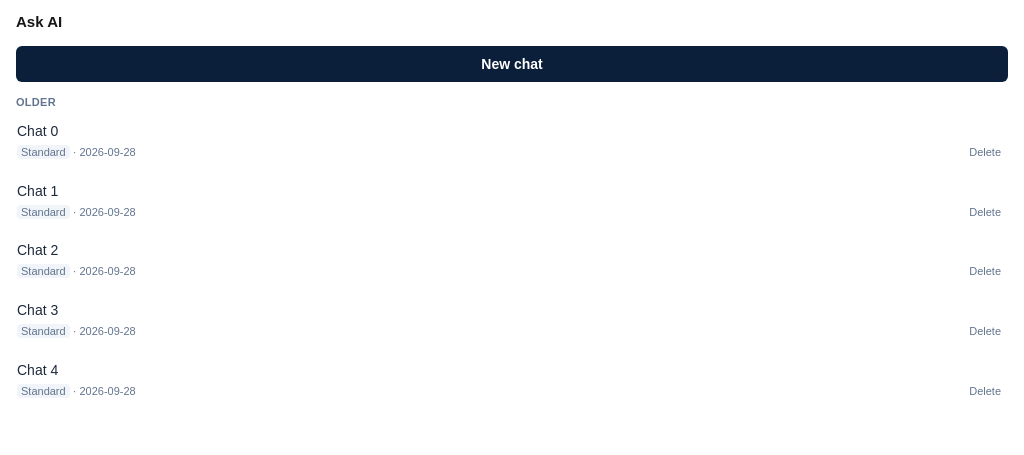
Test case: Rail › shows the busy message from the response body on a 409 (a turn is still settling under the lock)
The width and height of the screenshot is (1024, 455).
Click the button with aria-label "Delete Chat 0": click(985, 153) [963,143,1007,163]
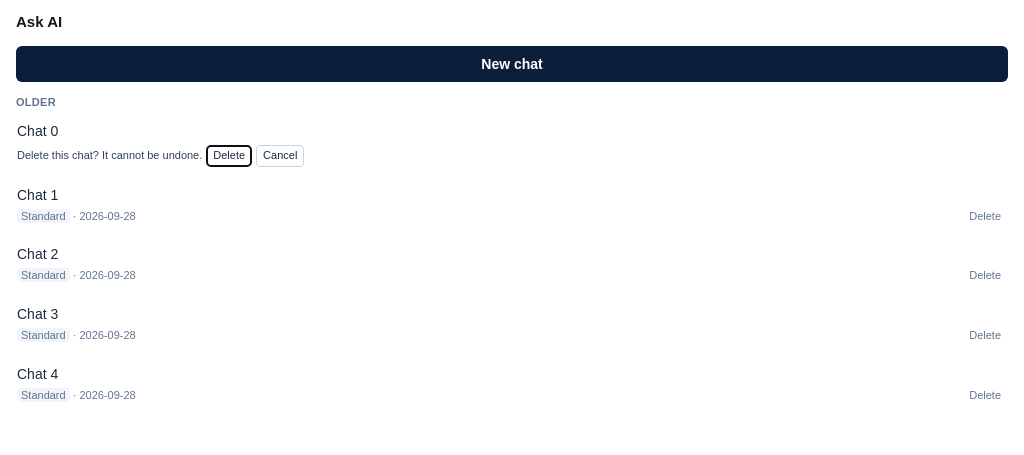
Click the button with aria-label "Confirm delete Chat 0": click(229, 156) [206,145,252,167]
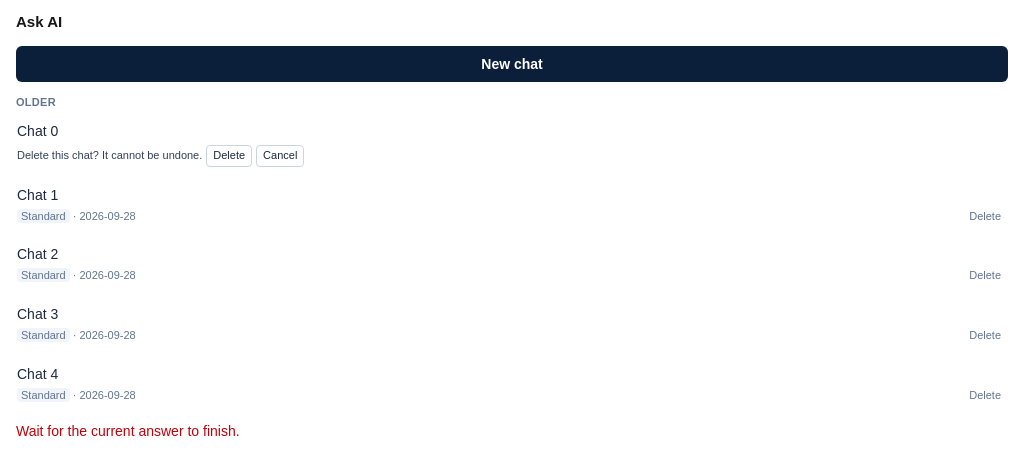
Now the message reads "Wait for the current answer to finish.", box [16,422,240,438]
